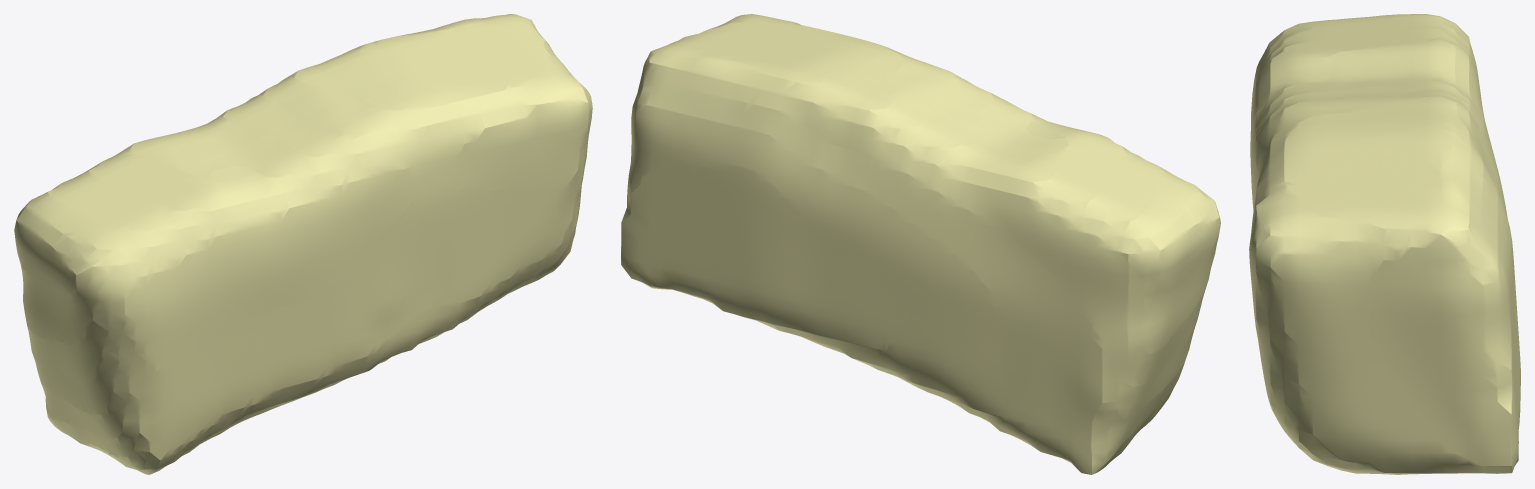
File: ledge.gltf
The picture shows the model from 3 angles, left to right: view 1: azimuth 30°, elevation 25°; view 2: azimuth 150°, elevation 25°; view 3: azimuth 270°, elevation 25°; orthographic projection. The views are drawn at different scales.
Visible parts, largest first — view 1: ledge; view 2: ledge; view 3: ledge.
Boxes of the visible parts, left/top/right/bottom form: ledge: left=14, top=14, right=592, bottom=474; ledge: left=621, top=14, right=1220, bottom=474; ledge: left=1249, top=14, right=1520, bottom=474.
Bounding box in the file's own units: 38.33 × 22.16 × 14.38.
1 material, 1 textured.
